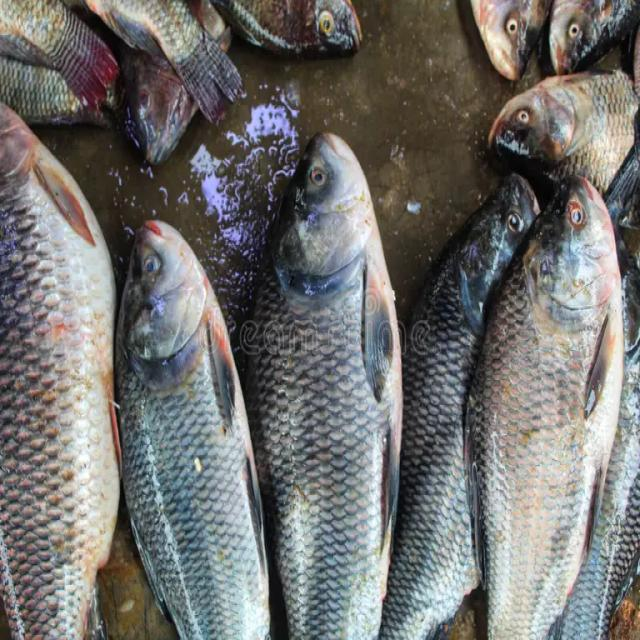Catla: (245, 131, 404, 639), (465, 177, 625, 637), (113, 220, 273, 638)
